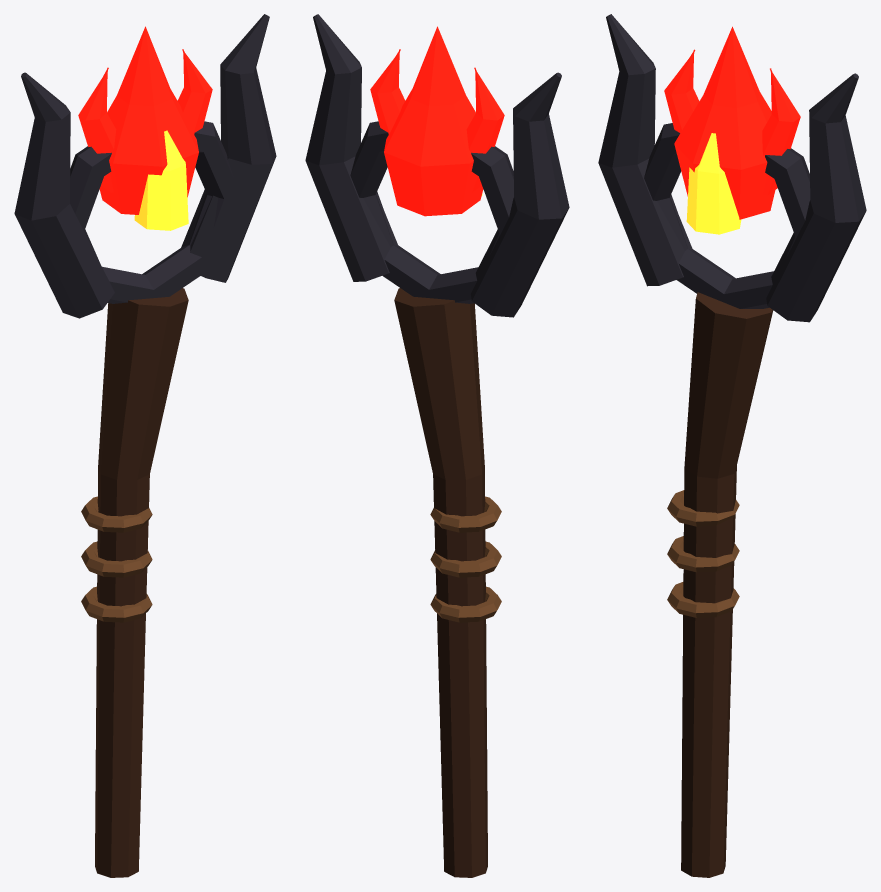
The model's file is evil_staff.glb.
3 views of the same model, side by side, from view 1: azimuth 30°, elevation 25°; view 2: azimuth 150°, elevation 25°; view 3: azimuth 330°, elevation 25° (orthographic).
Parts seen in each view (by area): view 1: Twisted dark staff shaft, Staff crooked claw, Staff crooked claw.001, Red magical flame, Iron staff crown, Bright flame heart, Curling flame tongue, Curling flame tongue.001, Staff grip wrap, Staff grip wrap.001, Staff grip wrap.002; view 2: Twisted dark staff shaft, Staff crooked claw, Red magical flame, Staff crooked claw.001, Iron staff crown, Curling flame tongue, Curling flame tongue.001, Staff grip wrap, Staff grip wrap.001, Staff grip wrap.002; view 3: Twisted dark staff shaft, Staff crooked claw.001, Staff crooked claw, Red magical flame, Iron staff crown, Bright flame heart, Curling flame tongue.001, Curling flame tongue, Staff grip wrap, Staff grip wrap.001, Staff grip wrap.002.
Part boxes in pixels (x1=…): Twisted dark staff shaft: x1=95, y1=288, x2=188, y2=877; Staff crooked claw: x1=14, y1=72, x2=114, y2=318; Staff crooked claw.001: x1=181, y1=14, x2=276, y2=282; Red magical flame: x1=99, y1=26, x2=198, y2=214; Iron staff crown: x1=70, y1=121, x2=233, y2=303; Bright flame heart: x1=134, y1=130, x2=188, y2=230; Curling flame tongue: x1=78, y1=67, x2=116, y2=192; Curling flame tongue.001: x1=177, y1=49, x2=212, y2=134; Staff grip wrap: x1=81, y1=586, x2=152, y2=622; Staff grip wrap.001: x1=81, y1=541, x2=152, y2=577; Staff grip wrap.002: x1=81, y1=496, x2=152, y2=532; Twisted dark staff shaft: x1=394, y1=288, x2=487, y2=877; Staff crooked claw: x1=470, y1=72, x2=569, y2=317; Red magical flame: x1=384, y1=26, x2=483, y2=216; Staff crooked claw.001: x1=305, y1=14, x2=398, y2=281; Iron staff crown: x1=350, y1=121, x2=513, y2=303; Curling flame tongue: x1=466, y1=67, x2=504, y2=192; Curling flame tongue.001: x1=370, y1=49, x2=405, y2=134; Staff grip wrap: x1=430, y1=586, x2=501, y2=622; Staff grip wrap.001: x1=430, y1=541, x2=501, y2=577; Staff grip wrap.002: x1=430, y1=496, x2=501, y2=532; Twisted dark staff shaft: x1=681, y1=292, x2=773, y2=877; Staff crooked claw.001: x1=766, y1=73, x2=866, y2=322; Staff crooked claw: x1=598, y1=14, x2=693, y2=286; Red magical flame: x1=674, y1=26, x2=776, y2=219; Iron staff crown: x1=644, y1=123, x2=810, y2=308; Bright flame heart: x1=686, y1=133, x2=741, y2=234; Curling flame tongue.001: x1=762, y1=68, x2=800, y2=195; Curling flame tongue: x1=664, y1=49, x2=699, y2=132; Staff grip wrap: x1=667, y1=582, x2=739, y2=617; Staff grip wrap.001: x1=667, y1=536, x2=739, y2=572; Staff grip wrap.002: x1=667, y1=490, x2=739, y2=526.
Bounding box in the file's own units: 0.714 × 2.23 × 0.2845.
